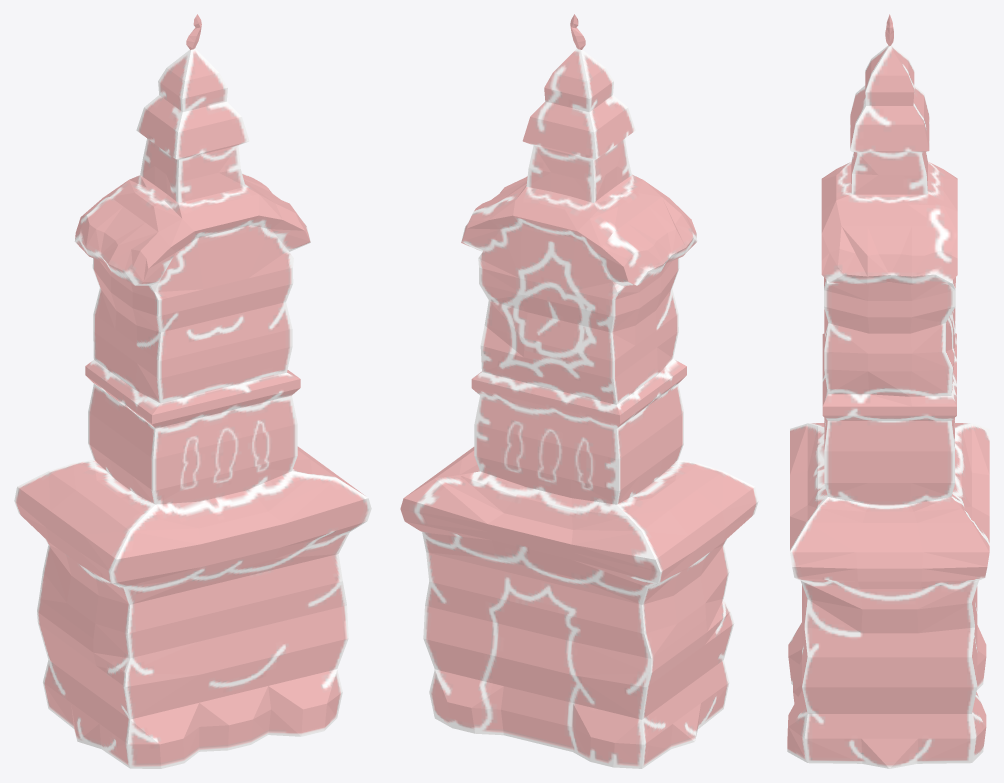
File: NicelandsTower.glb
The picture shows the model from 3 angles, left to right: view 1: azimuth 30°, elevation 25°; view 2: azimuth 150°, elevation 25°; view 3: azimuth 270°, elevation 25°; orthographic projection.
Parts seen in each view (by area): view 1: ClockTower; view 2: ClockTower; view 3: ClockTower.
Boxes of the visible parts, x1,y1,x2,y2 form: ClockTower: (14,14,371,768); ClockTower: (400,14,758,768); ClockTower: (787,14,989,768).
Size of the model in its own units: 0.0922 by 0.2325 by 0.0609.
Materials: 1 (1 with a texture image).
